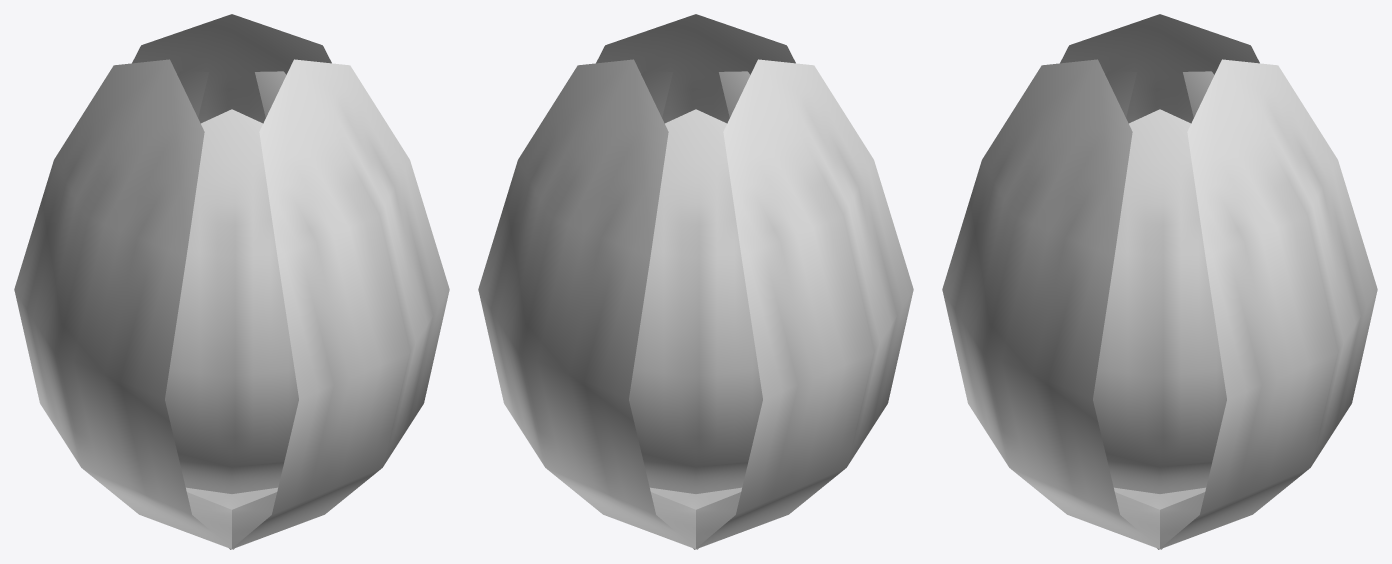
File: FlowerType1.FBX
3 views of the same model, side by side, from view 1: azimuth 30°, elevation 25°; view 2: azimuth 150°, elevation 25°; view 3: azimuth 270°, elevation 25° (orthographic).
Visible parts, largest first — view 1: FlowerType1; view 2: FlowerType1; view 3: FlowerType1.
Boxes of the visible parts, x1,y1,x2,y2 form: FlowerType1: (14,14,449,549); FlowerType1: (478,14,913,549); FlowerType1: (942,14,1377,549).
Bounding box in the file's own units: 15.89 × 19.84 × 16.58.
